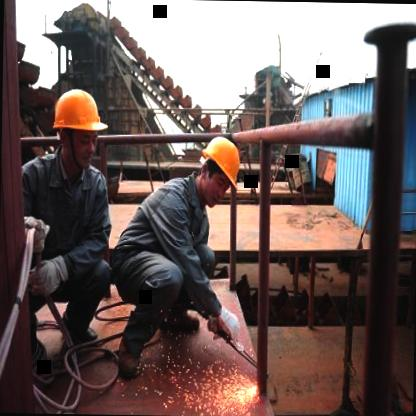helmet: (45, 82, 105, 169), (190, 129, 246, 208)
